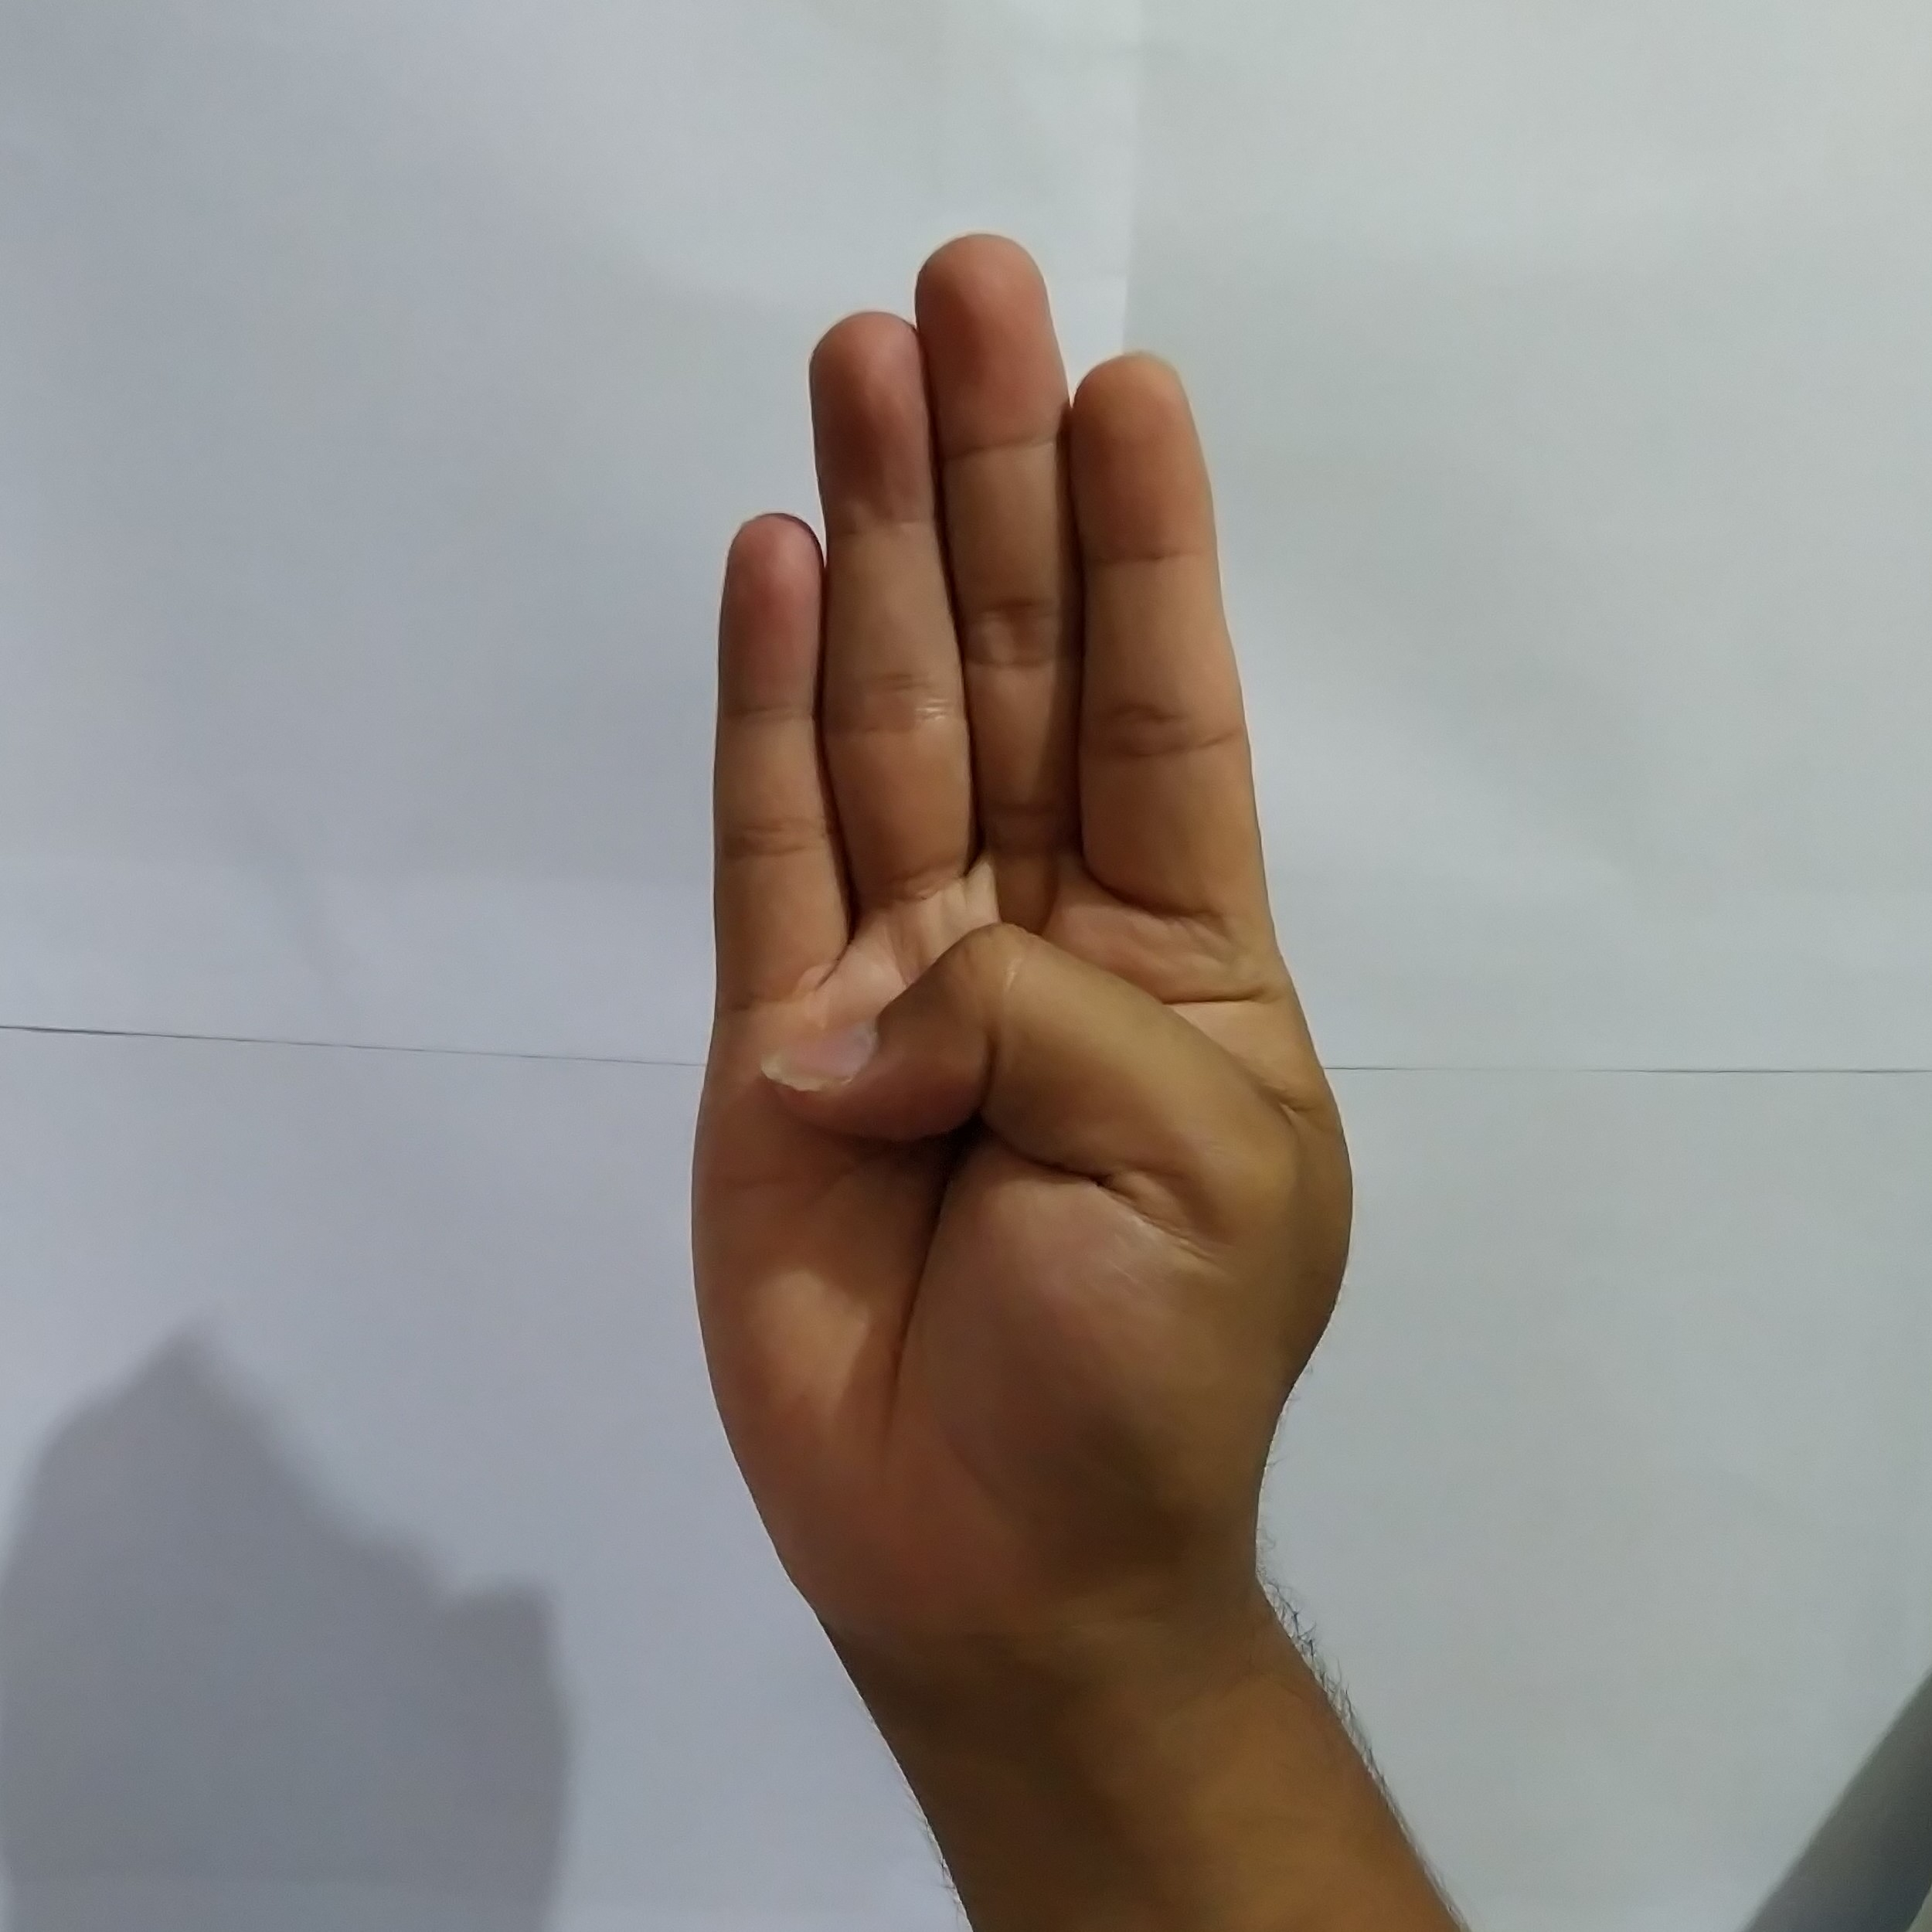B: (665, 209, 1380, 1621)
